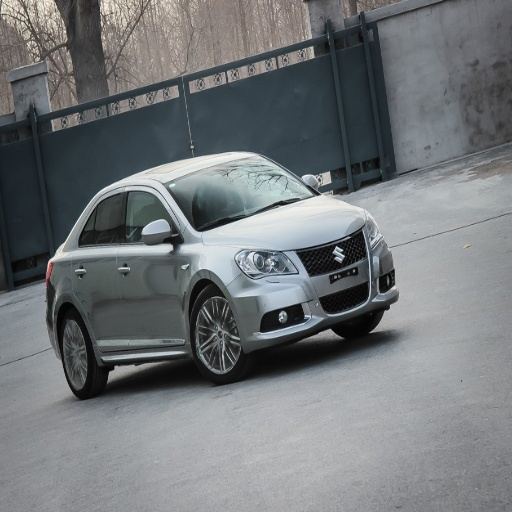front_bumper: (231, 223, 397, 348)
front_right_door: (119, 187, 181, 342)
front_right_light: (235, 249, 297, 278)
